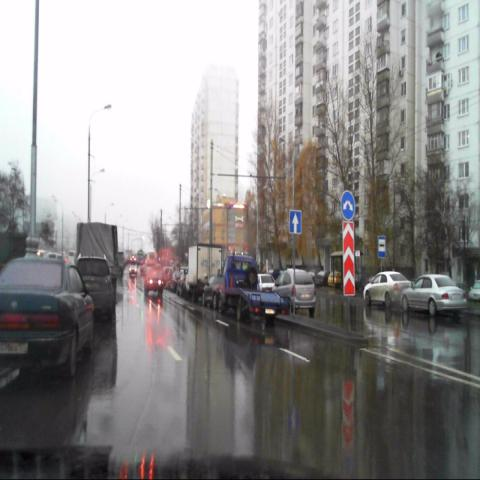5_5: (288, 209, 302, 234)
